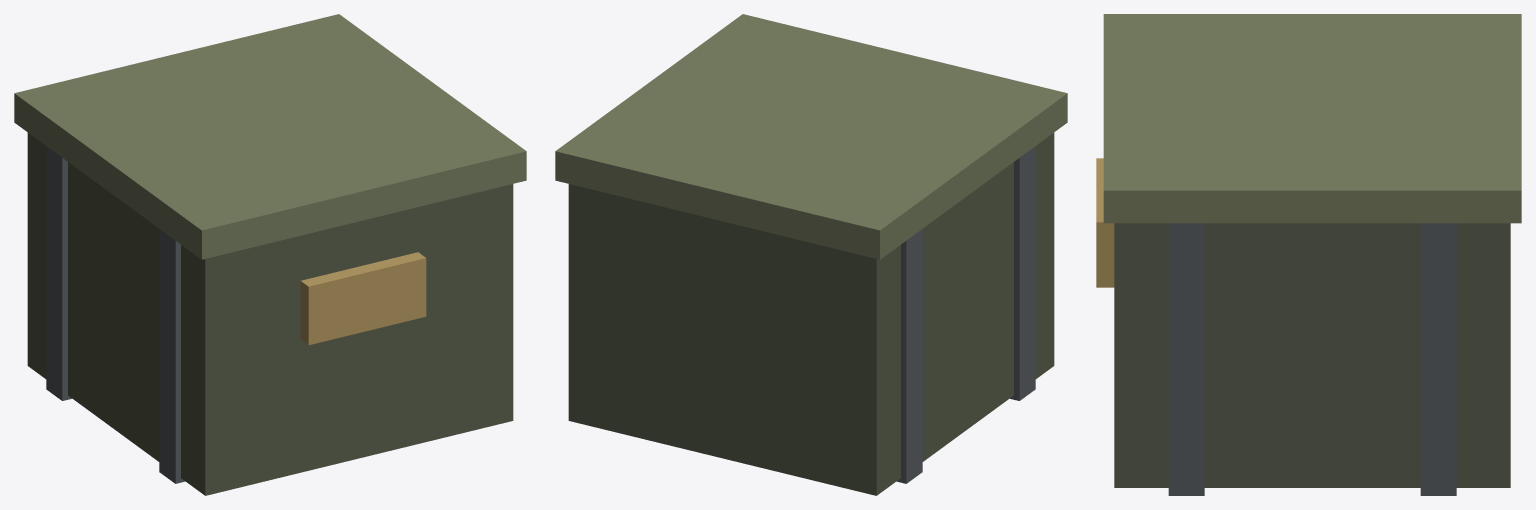
Rendered from crate.glb.
The picture shows the model from 3 angles, left to right: view 1: azimuth 30°, elevation 25°; view 2: azimuth 150°, elevation 25°; view 3: azimuth 270°, elevation 25°; orthographic projection. The views are drawn at different scales.
Visible parts, largest first — view 1: body, lid, mark, bandA, bandB; view 2: body, lid, bandB, bandA; view 3: lid, body, bandA, bandB, mark.
Part boxes in pixels (box(x1,y1,x2,y2)): body: box(27, 132, 513, 495); lid: box(14, 14, 526, 259); mark: box(300, 252, 426, 345); bandA: box(159, 229, 185, 483); bandB: box(46, 146, 71, 400); body: box(568, 132, 1054, 495); lid: box(555, 14, 1067, 259); bandB: box(896, 229, 922, 483); bandA: box(1010, 146, 1035, 400); lid: box(1103, 14, 1521, 223); body: box(1114, 223, 1510, 487); bandA: box(1168, 223, 1204, 495); bandB: box(1420, 223, 1456, 495); mark: box(1096, 158, 1114, 287).
Size of the model in its own units: 1.16 by 0.94 by 1.18.
